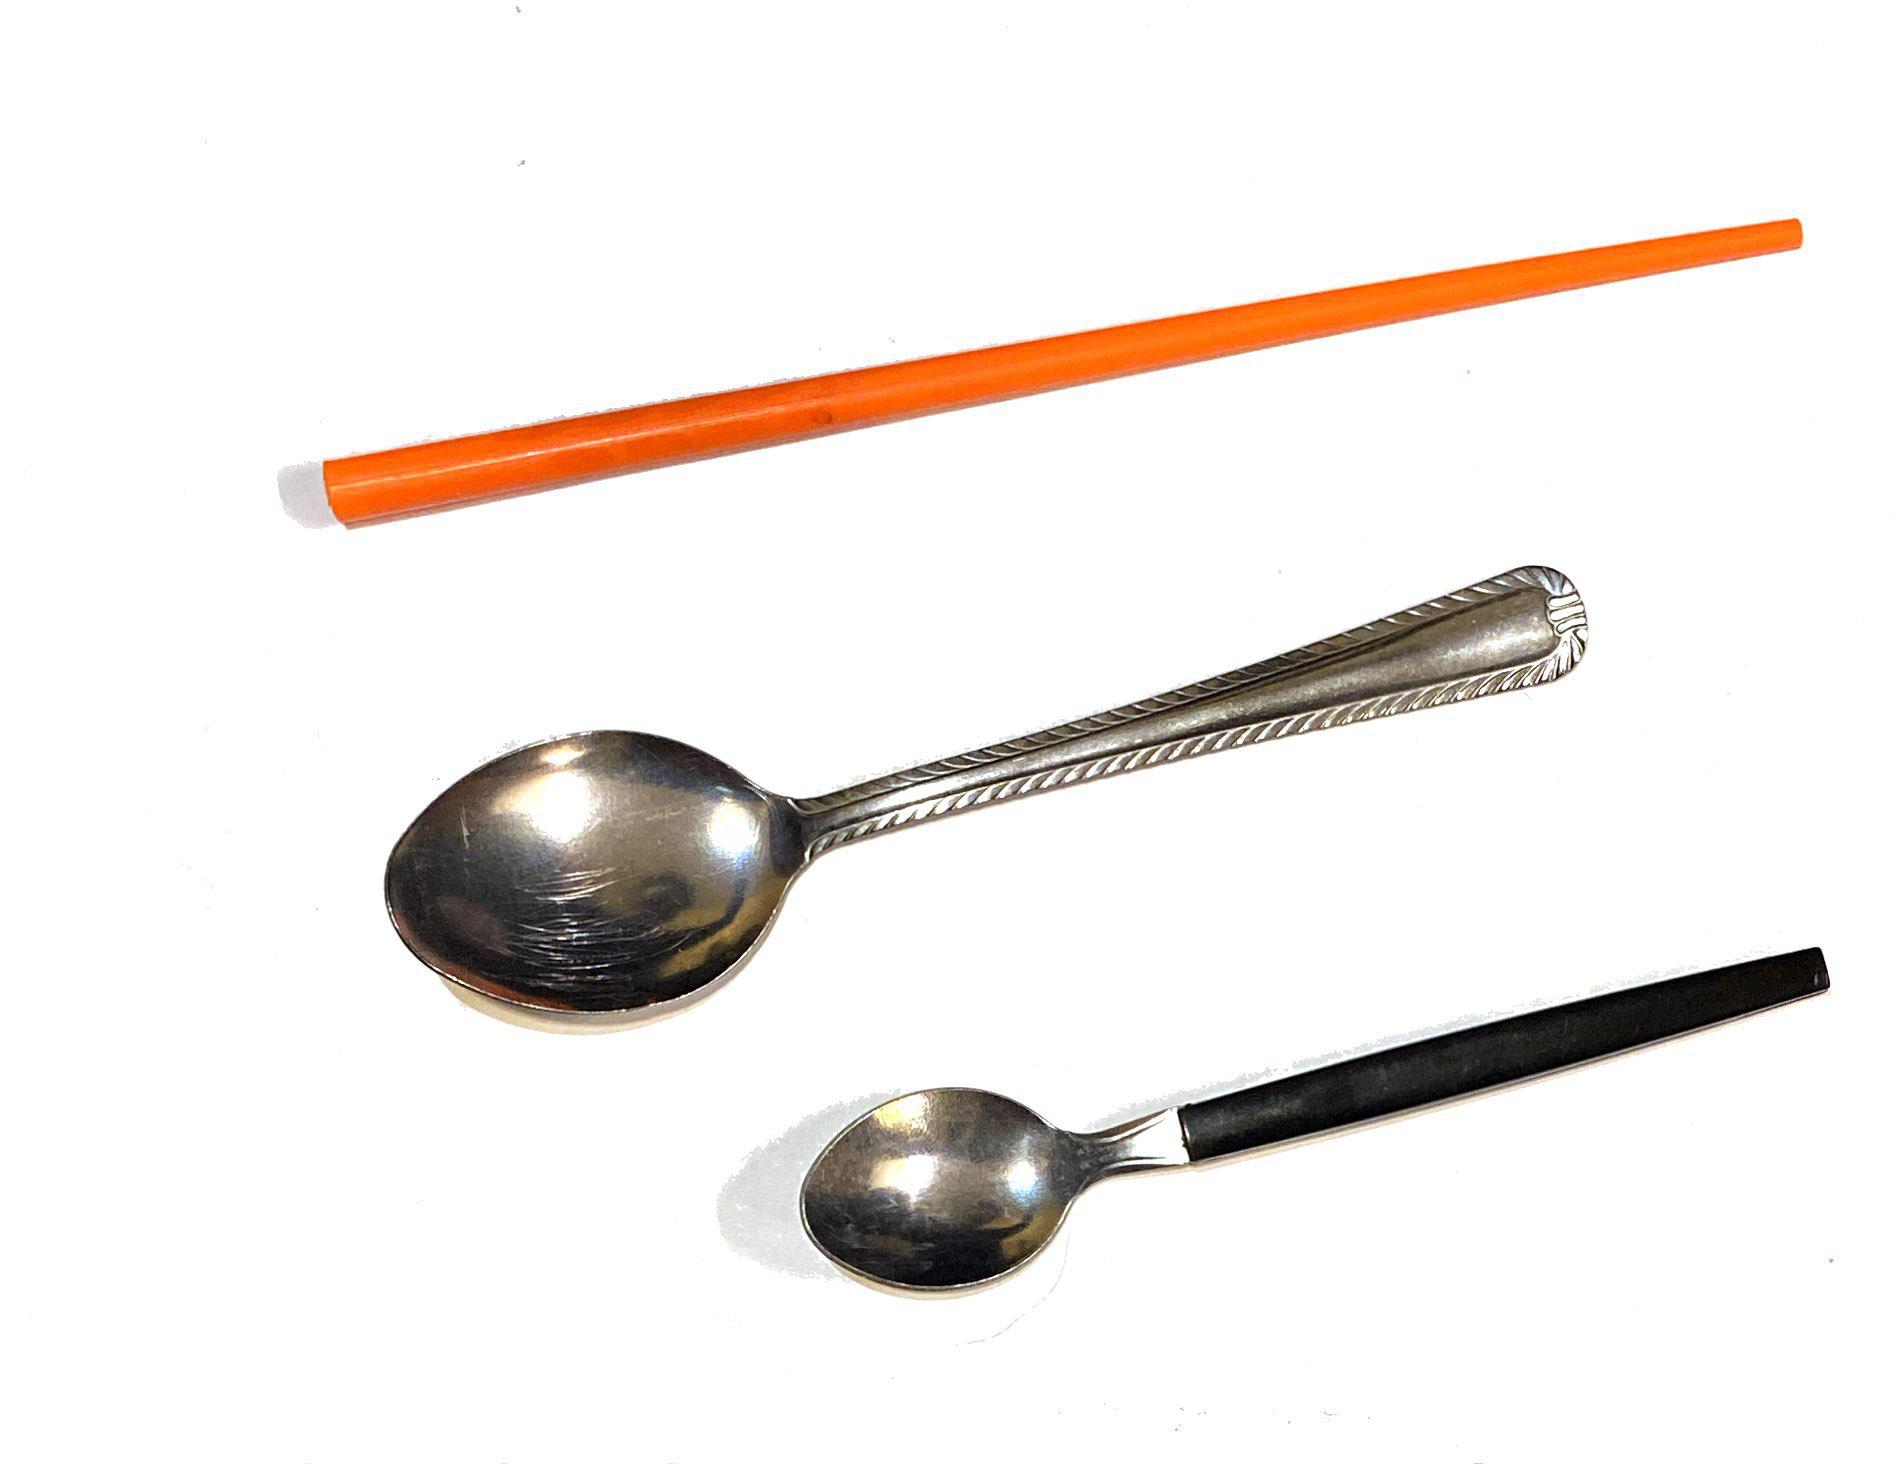Chopstick: (243, 191, 1846, 544)
Spoon: (374, 537, 1619, 1090), (762, 903, 1868, 1324)
